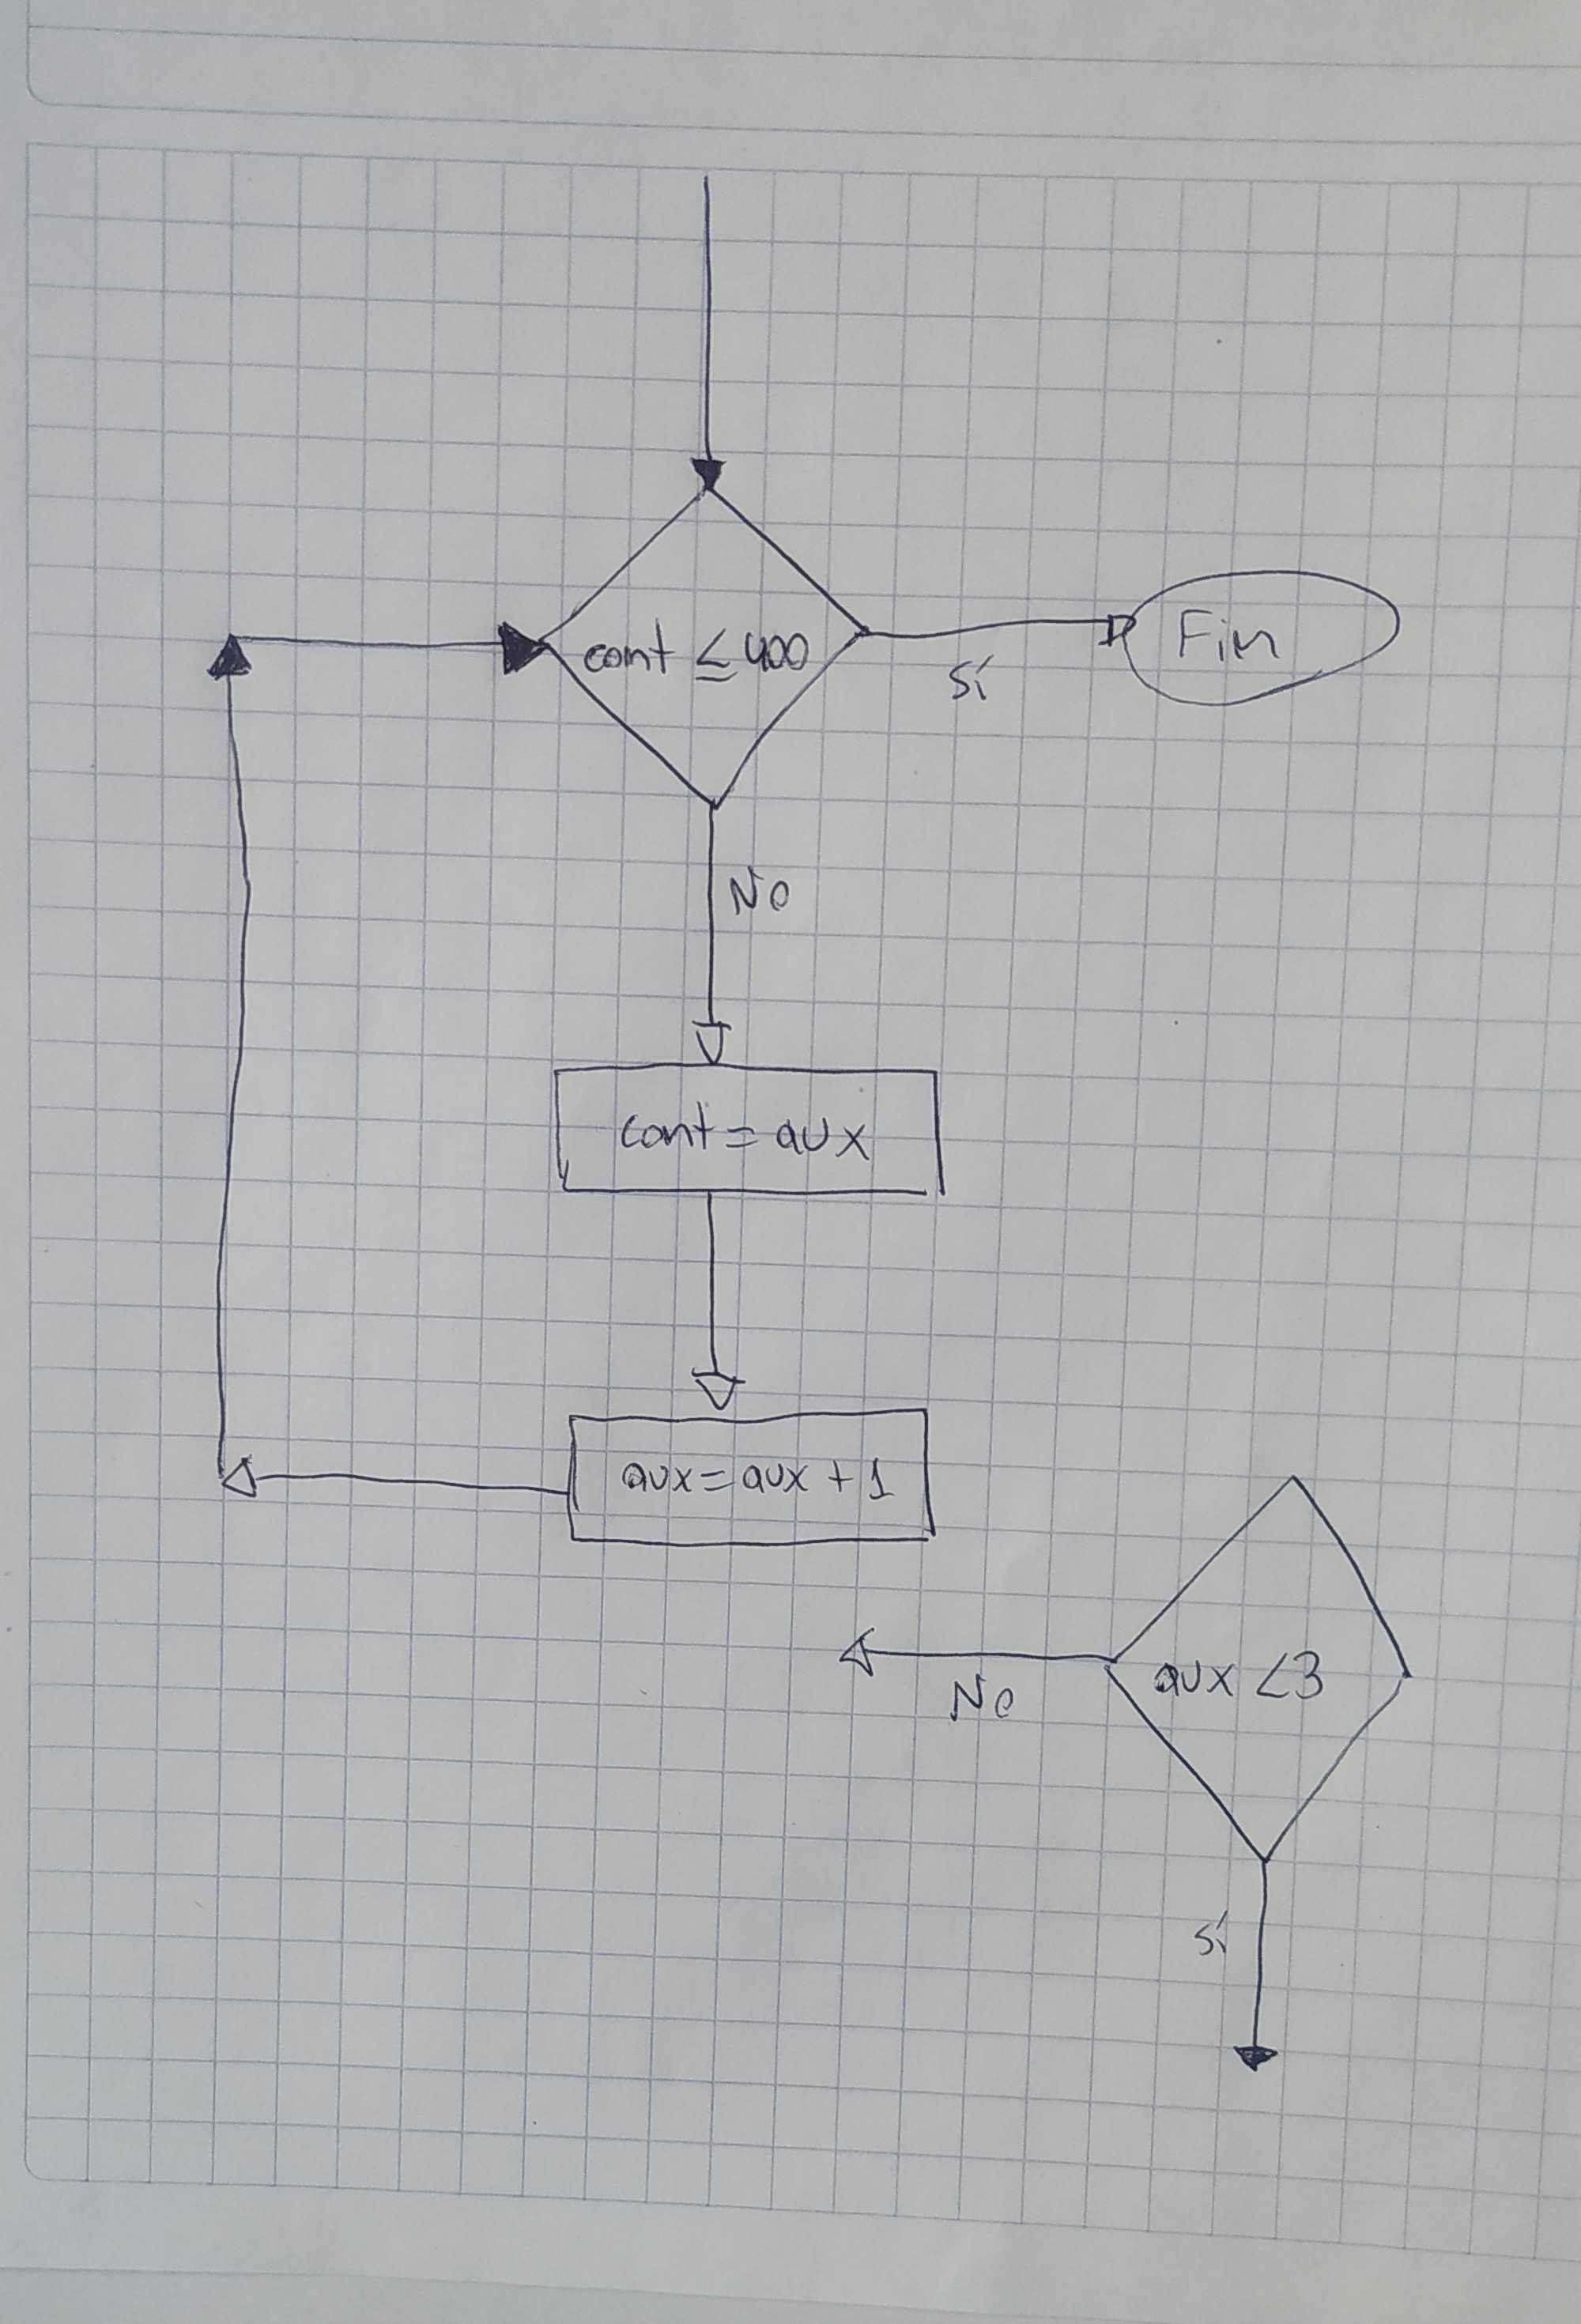arrow_line_down: (671, 162, 746, 496), (672, 799, 752, 1062), (1225, 1858, 1300, 2089), (683, 1184, 752, 1413)
arrow_line_left: (214, 1438, 568, 1519), (826, 1618, 1117, 1703)
arrow_line_right: (224, 609, 549, 681), (847, 593, 1138, 660)
arrow_line_up: (189, 626, 266, 1491)
decision: (1103, 1456, 1442, 1876), (531, 484, 873, 821)
process: (540, 1394, 972, 1567), (531, 1048, 963, 1216)
start_end: (1112, 544, 1413, 720)
